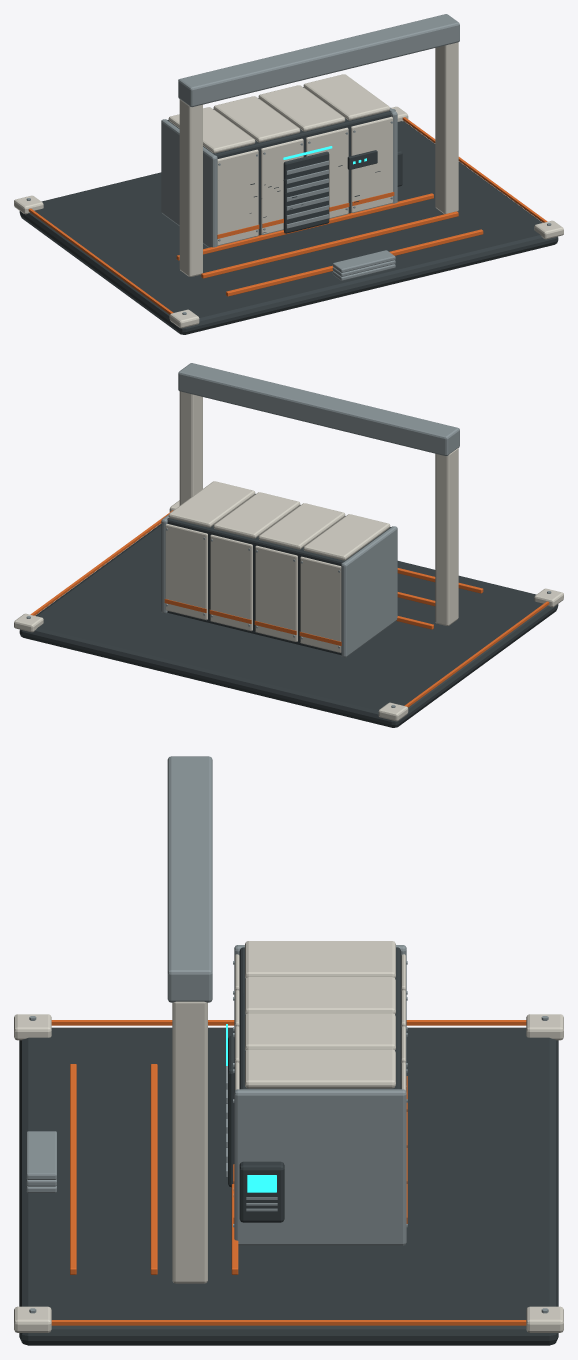
File: SM_ShipUpgradeDock_Body.fbx
3 views of the same model, one above another, from view 1: azimuth 30°, elevation 25°; view 2: azimuth 150°, elevation 25°; view 3: azimuth 270°, elevation 25° (orthographic). The views are drawn at different scales.
Parts seen in each view (by area): view 1: SM_ShipUpgradeDock_Body; view 2: SM_ShipUpgradeDock_Body; view 3: SM_ShipUpgradeDock_Body.
Part boxes in pixels (x1,y1,x2,y2): SM_ShipUpgradeDock_Body: (14,14,563,334); SM_ShipUpgradeDock_Body: (14,363,563,727); SM_ShipUpgradeDock_Body: (14,756,563,1345).
Size of the model in its own units: 812 by 612 by 410.
